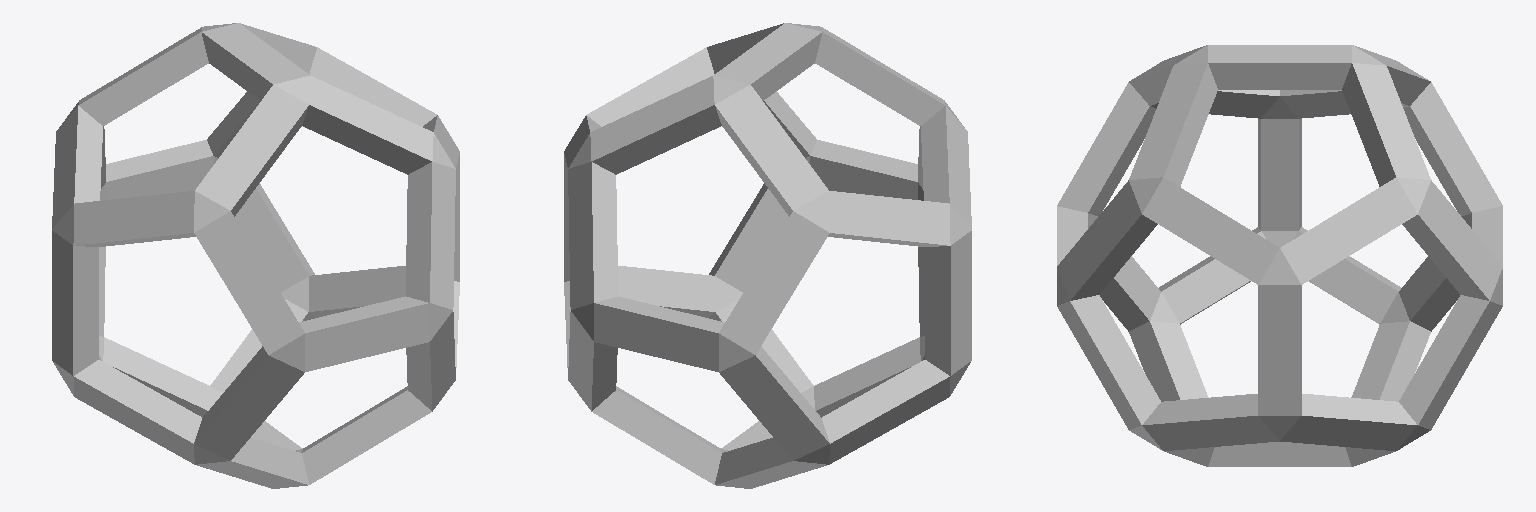
Rendered from egg.obj.
3 renders of one model, left to right at view 1: azimuth 30°, elevation 25°; view 2: azimuth 150°, elevation 25°; view 3: azimuth 270°, elevation 25°, orthographic.
Parts seen in each view (by area): view 1: Egg; view 2: Egg; view 3: Egg.
Boxes of the visible parts, x1=… form: Egg: x1=52, y1=23, x2=459, y2=488; Egg: x1=564, y1=23, x2=971, y2=488; Egg: x1=1057, y1=45, x2=1502, y2=466.
Size of the model in its own units: 2.05 by 2.05 by 2.05.